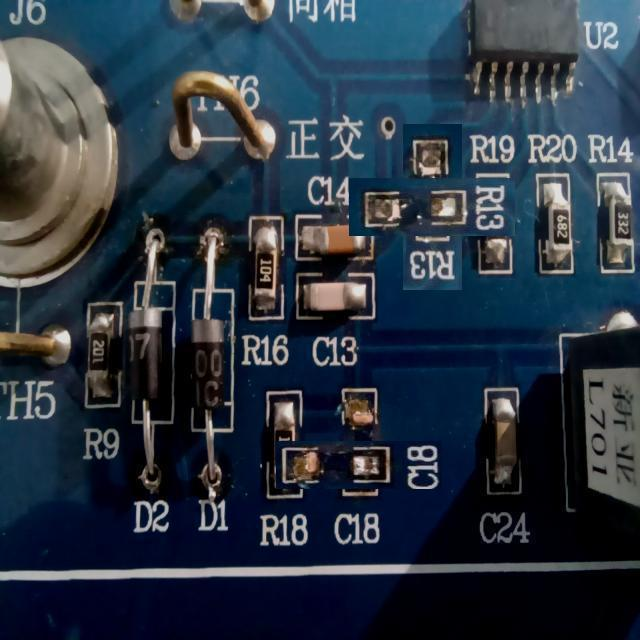miss_welding: (376, 151, 489, 263), (306, 411, 413, 518)
